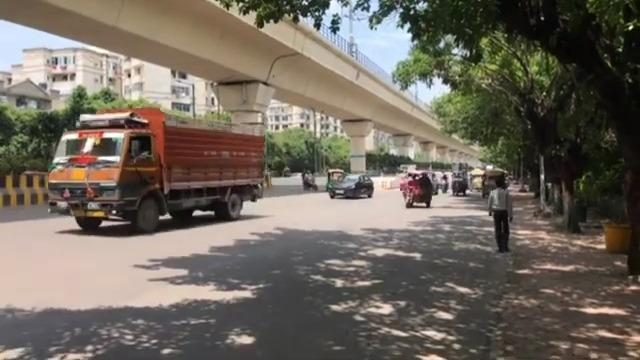Auto: (400, 169, 433, 207)
Bike: (301, 170, 317, 191)
Truck: (50, 102, 272, 231)
